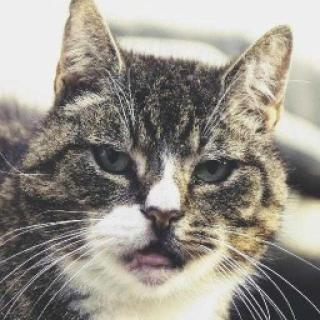cat: (17, 3, 301, 301)
nose: (136, 175, 190, 239)
